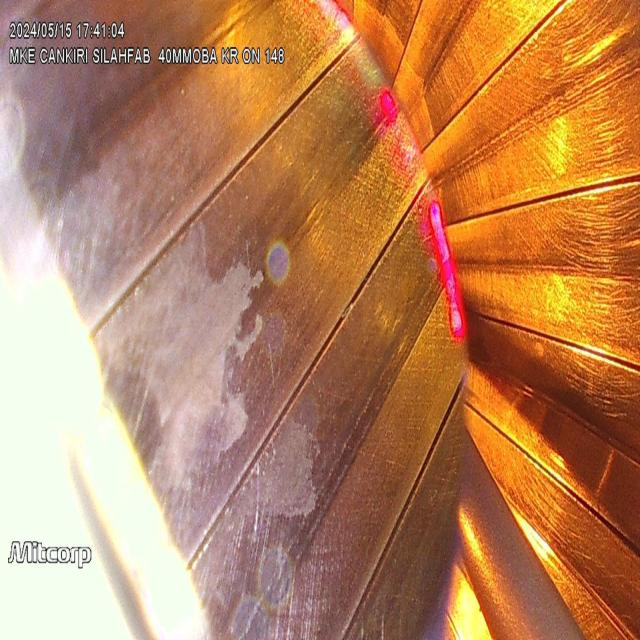hata_8.2: (111, 238, 309, 508)
